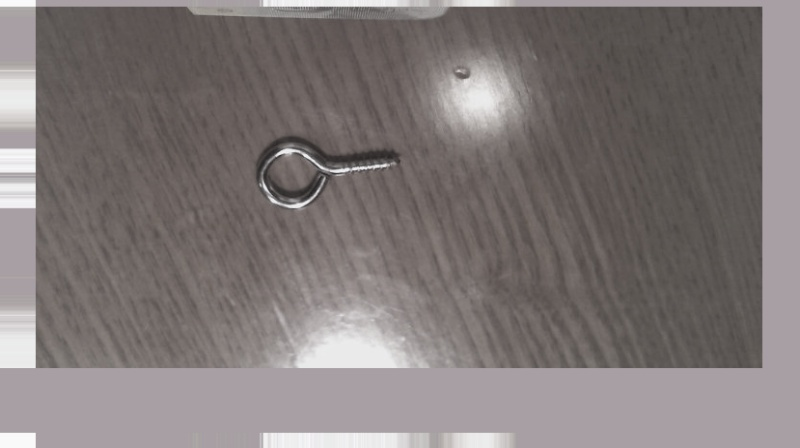O001: (250, 131, 403, 211)
